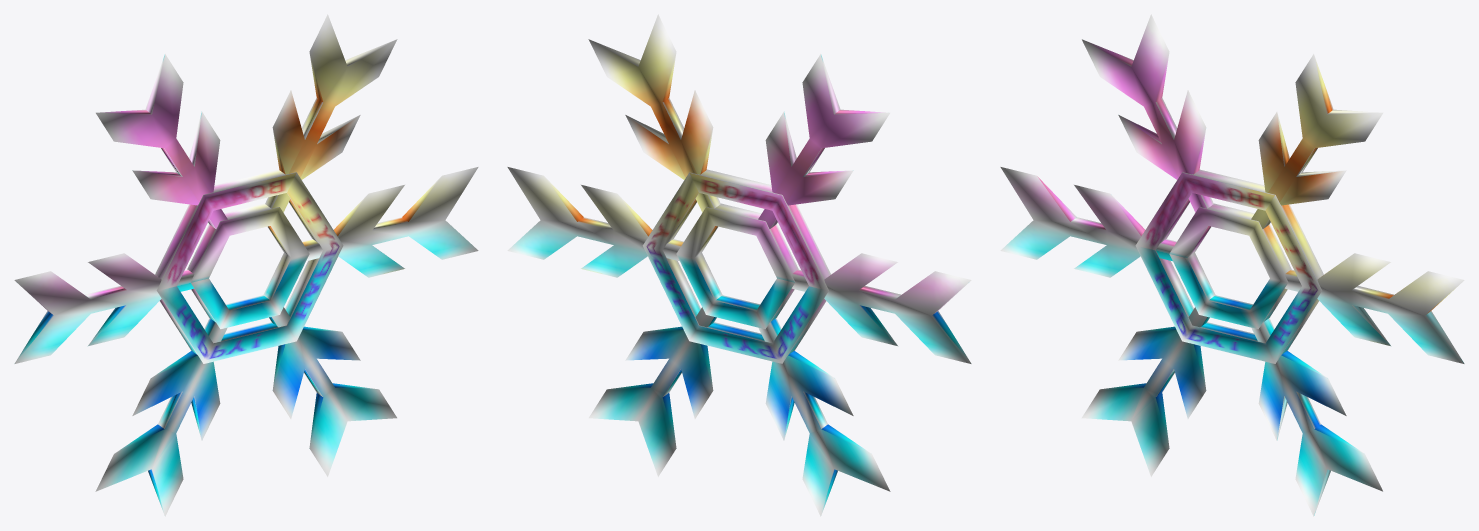
File: ICON1.ICO.obj
3 renders of one model, left to right at view 1: azimuth 30°, elevation 25°; view 2: azimuth 150°, elevation 25°; view 3: azimuth 330°, elevation 25°, orthographic.
Bounding box in the file's own units: 4.82 × 4.59 × 0.1377.
Materials: 1 (1 with a texture image).
